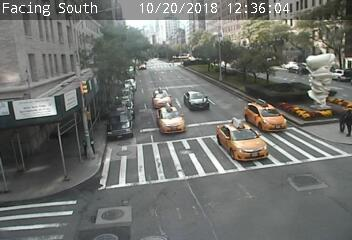car: (216, 123, 269, 161), (243, 102, 288, 132), (156, 108, 186, 133), (184, 91, 210, 109), (152, 91, 172, 107)
